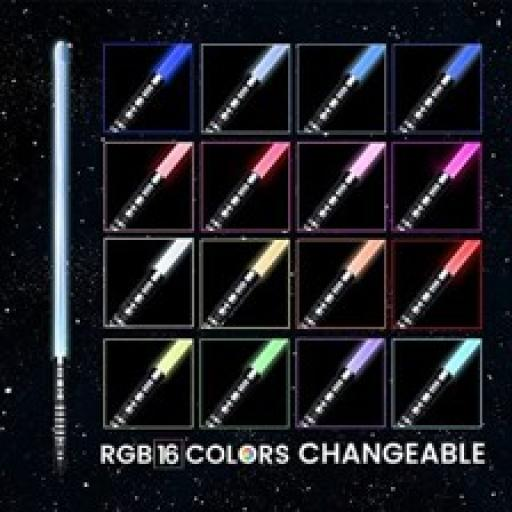lightsaber: (46, 42, 74, 466)
